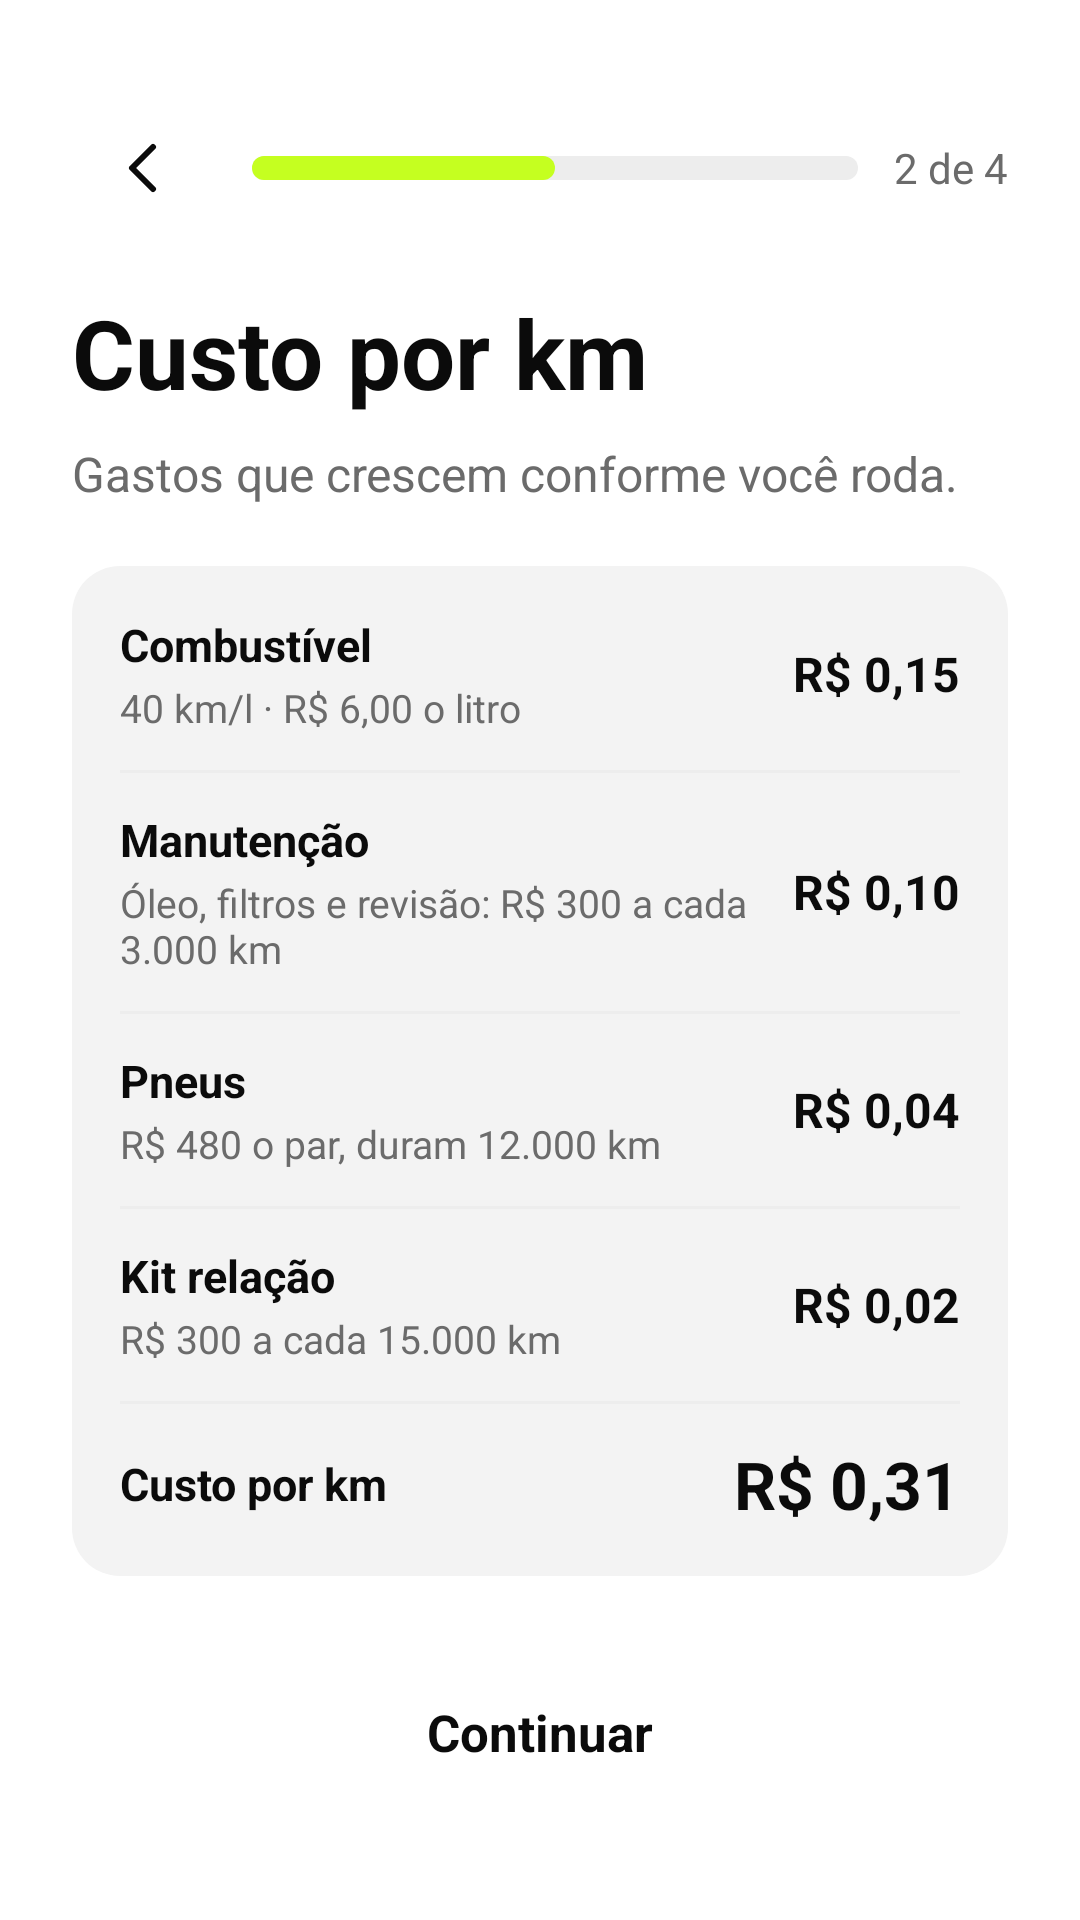

Point at icon controls on the screen. Image size 1080px×1920px, points as [x,y].
Voltar: [142,168]
